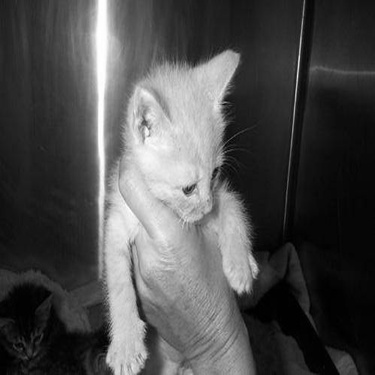cat: (97, 45, 261, 373)
